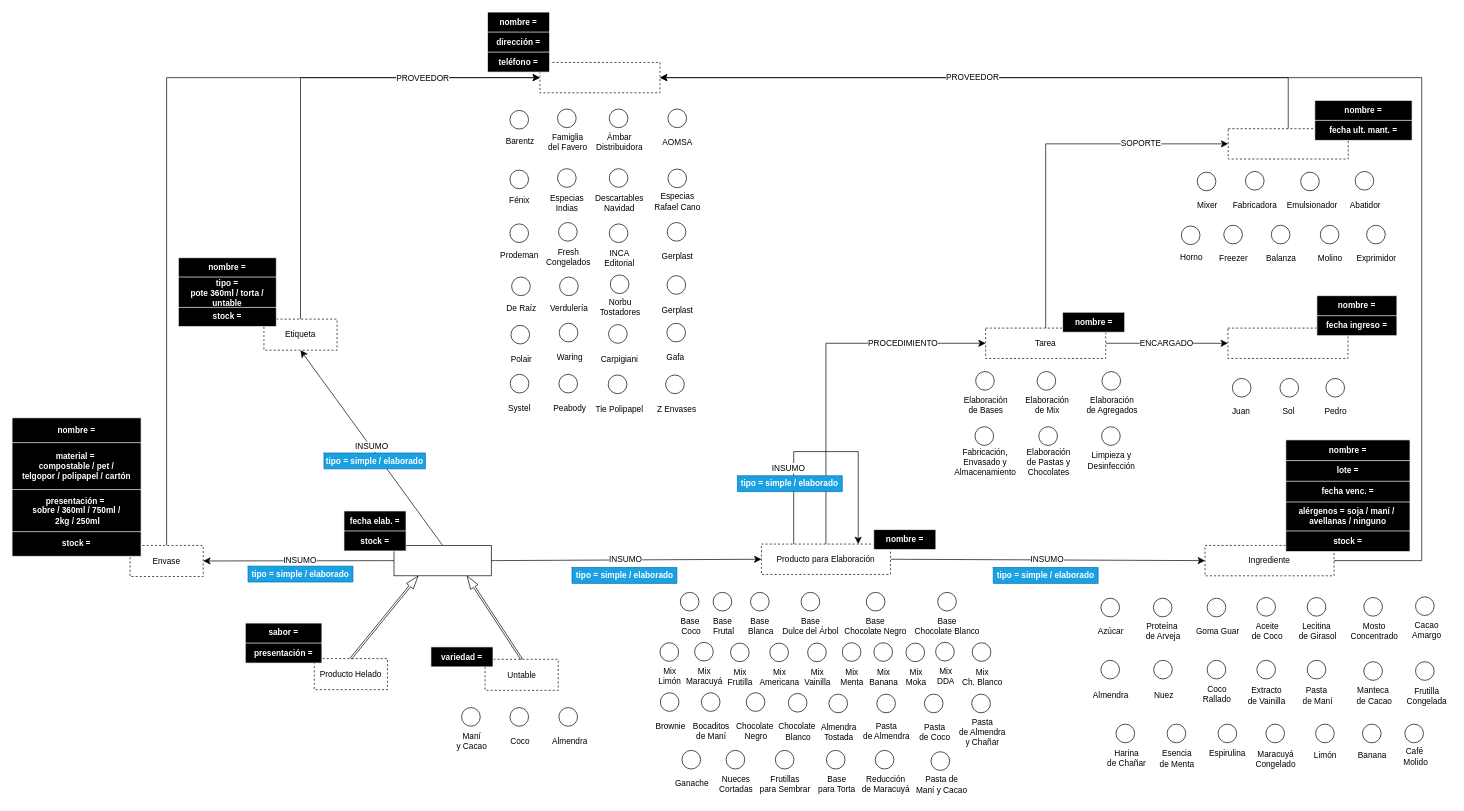
This 1464x811 diagram has some shape labels left out. The shapes that lost their labels are listed below. From the top down, each one's centre as x and y in pixels, then its label:
At pixel 599 77: "Empresa".
At pixel 1288 143: "Máquina".
At pixel 1287 342: "Empleado".
At pixel 442 560: "(Producto para Venta)".
